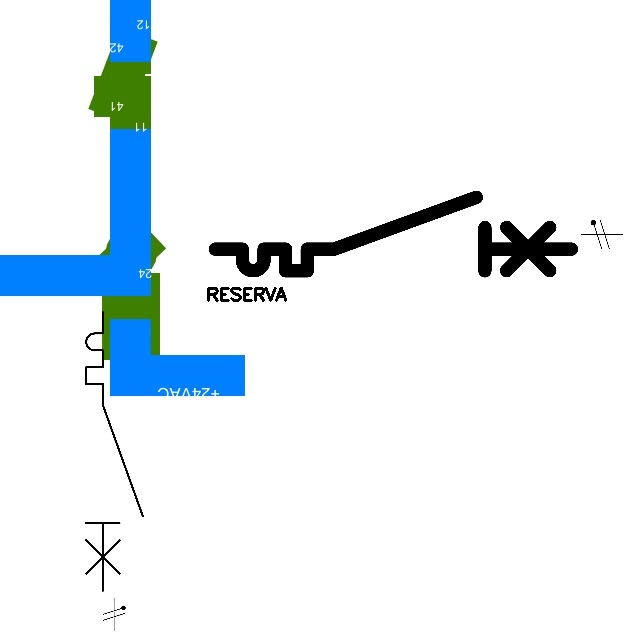interruptor_termomagnetico: (206, 188, 581, 280), (79, 305, 150, 597)
